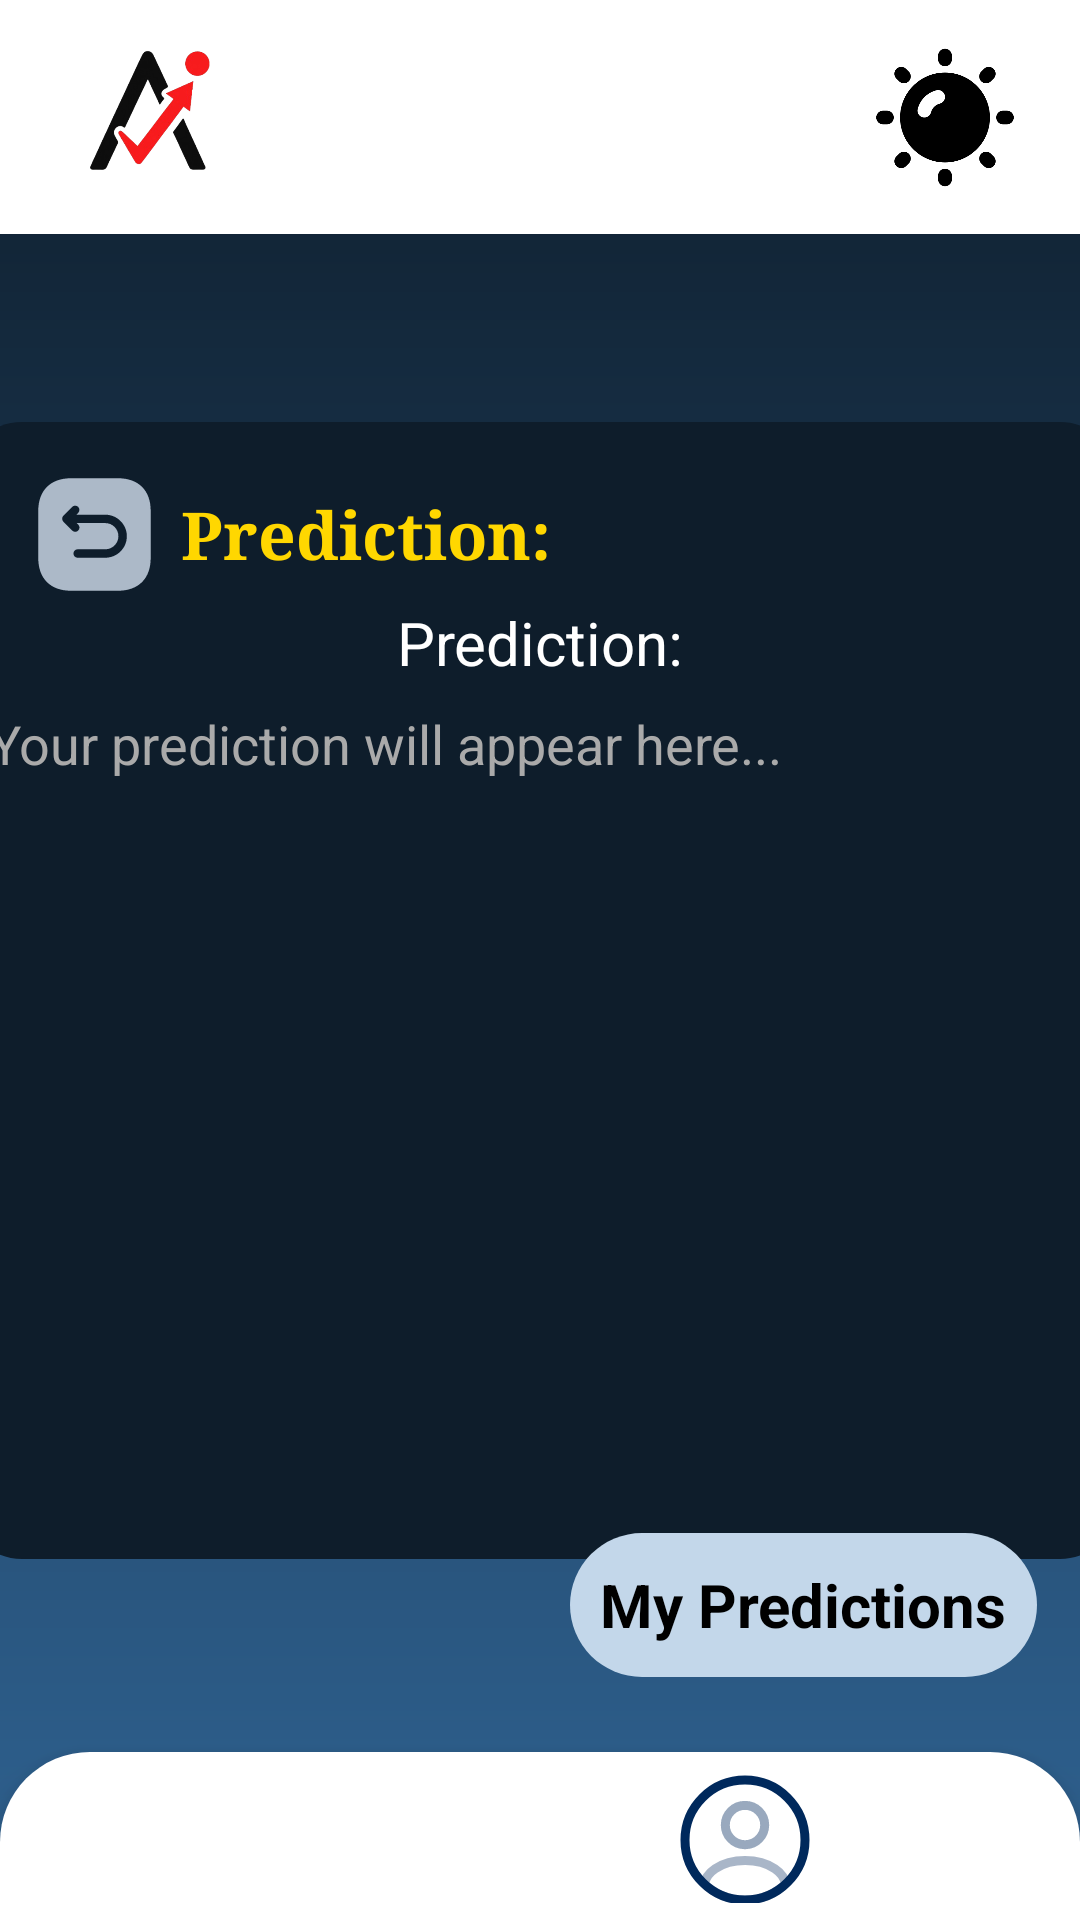

Icons on this 1080 x 1920 Android screen, each with the point to tap as point (x, y):
back: point (94, 534)
profile: point (745, 1839)
summer: point (945, 117)
